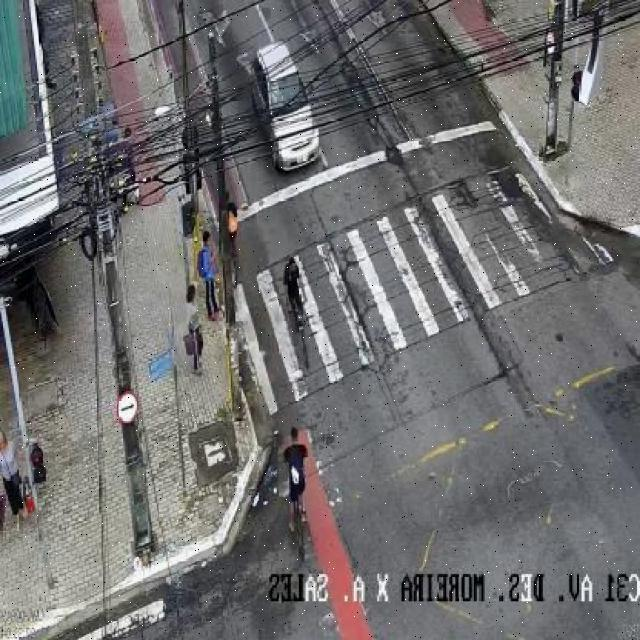Car: (246, 38, 321, 179)
Cycle: (281, 424, 314, 564), (284, 258, 308, 362)
